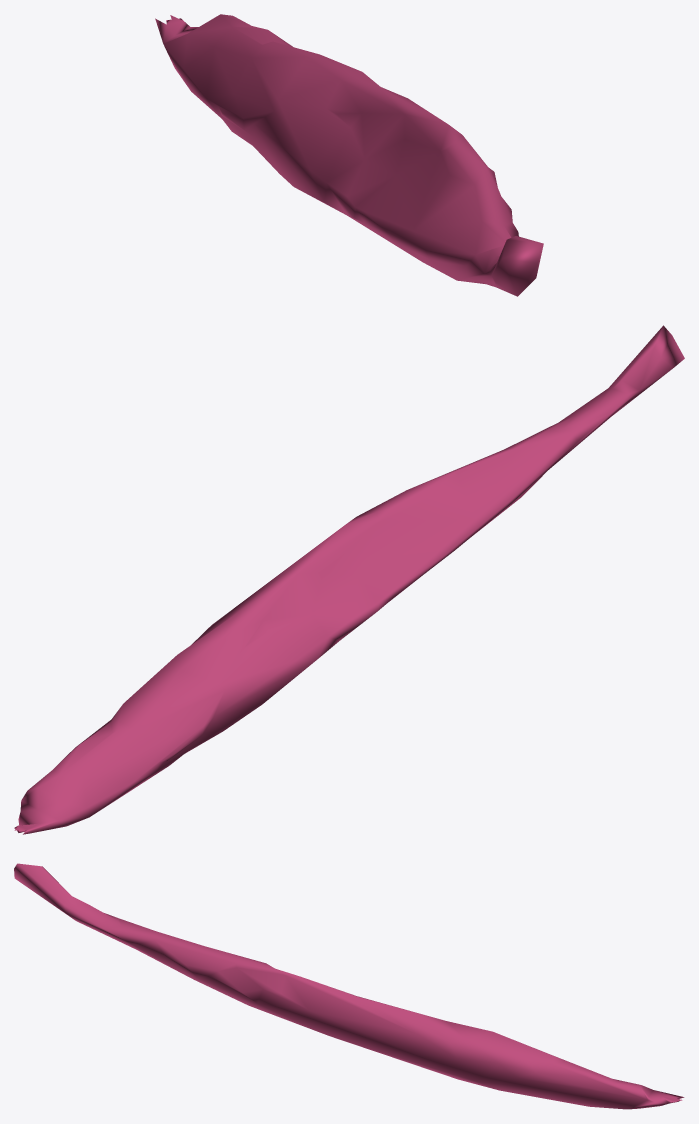
The picture shows the model from 3 angles, top to bottom: view 1: azimuth 30°, elevation 25°; view 2: azimuth 150°, elevation 25°; view 3: azimuth 270°, elevation 25°; orthographic projection. The views are drawn at different scales.
Parts seen in each view (by area): view 1: 右侧小指短屈肌; view 2: 右侧小指短屈肌; view 3: 右侧小指短屈肌.
Boxes of the visible parts, left/top/right/bottom form: 右侧小指短屈肌: left=155, top=14, right=543, bottom=296; 右侧小指短屈肌: left=14, top=325, right=684, bottom=834; 右侧小指短屈肌: left=14, top=863, right=684, bottom=1109.
Size of the model in its own units: 0.0274 by 0.0269 by 0.0912.
